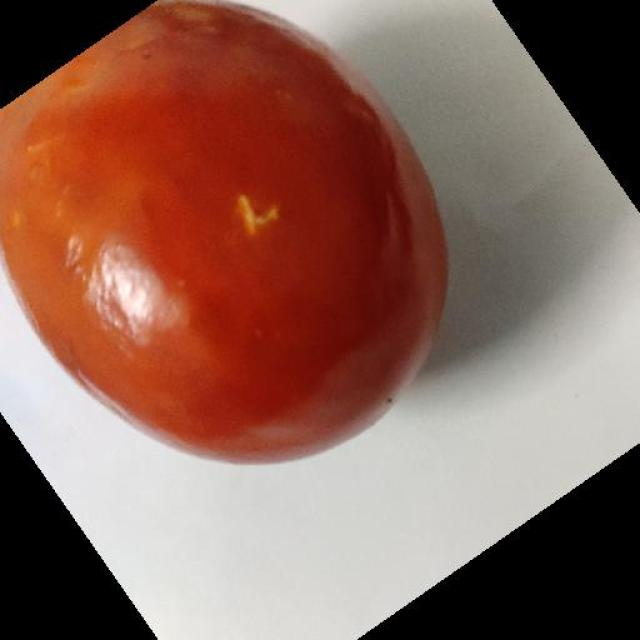Stale_tomato: (0, 68, 489, 456)
